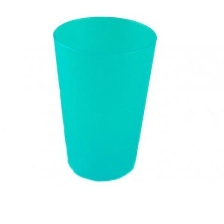glass: (46, 10, 173, 187)
